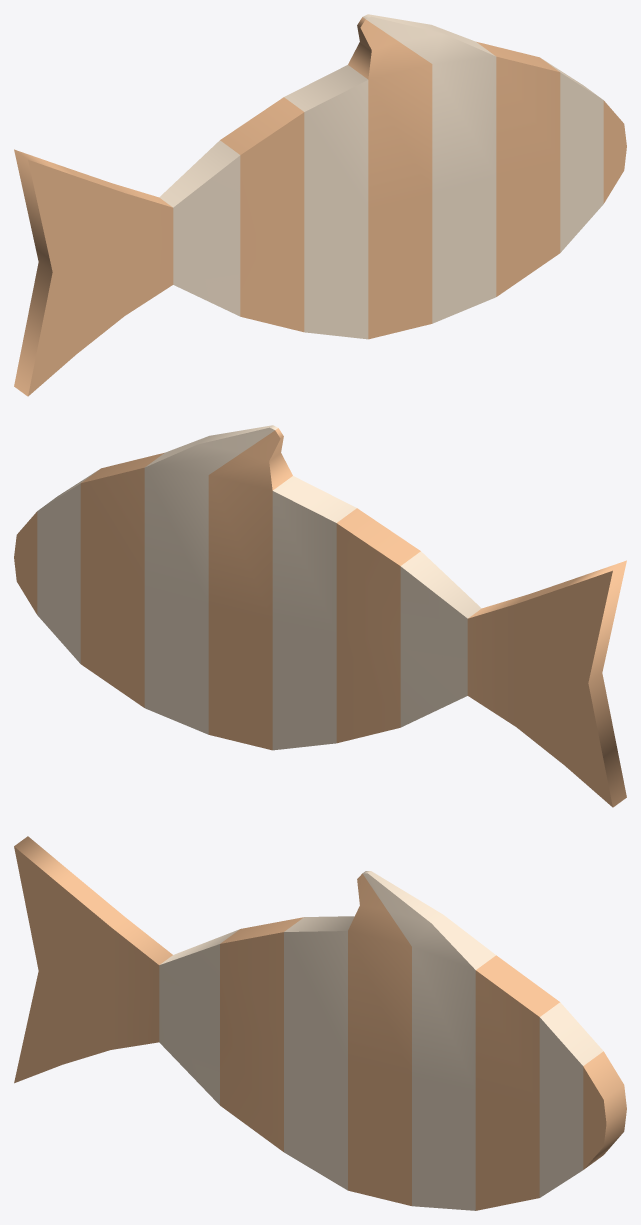
Rendered from peixe.fbx.
3 views of the same model, one above another, from view 1: azimuth 30°, elevation 25°; view 2: azimuth 150°, elevation 25°; view 3: azimuth 330°, elevation 25° (orthographic).
Parts seen in each view (by area): view 1: peixe; view 2: peixe; view 3: peixe.
Boxes of the visible parts, left/top/right/bottom form: peixe: left=14, top=14, right=626, bottom=396; peixe: left=14, top=425, right=626, bottom=807; peixe: left=14, top=836, right=626, bottom=1210.
Size of the model in its own units: 24.16 by 12.16 by 1.44.
